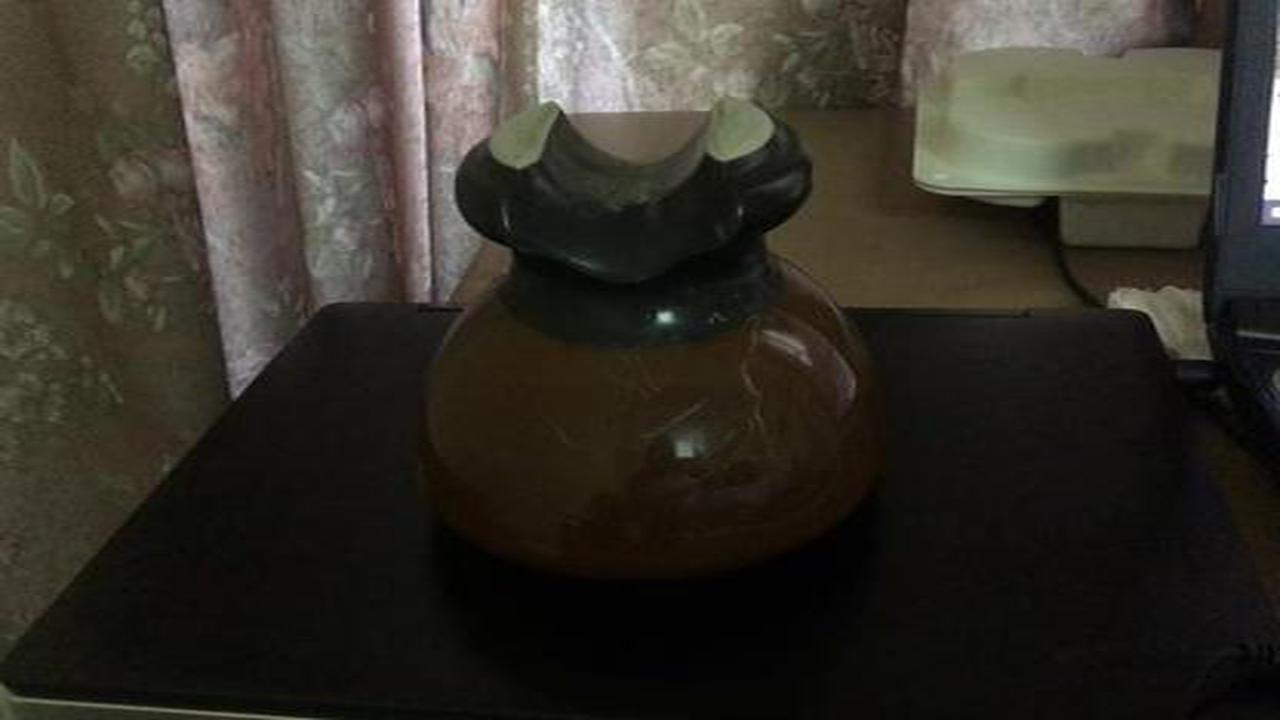insulator_pin: (394, 87, 911, 611)
